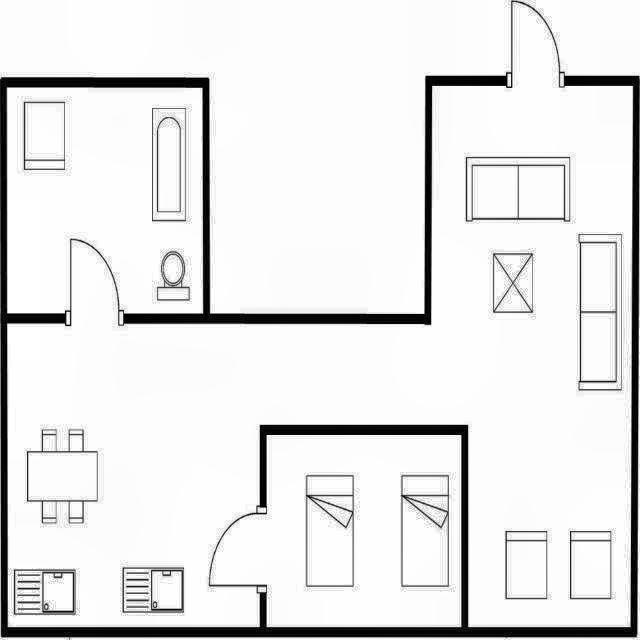room: (7, 85, 633, 628), (7, 87, 203, 313), (267, 435, 461, 627)
